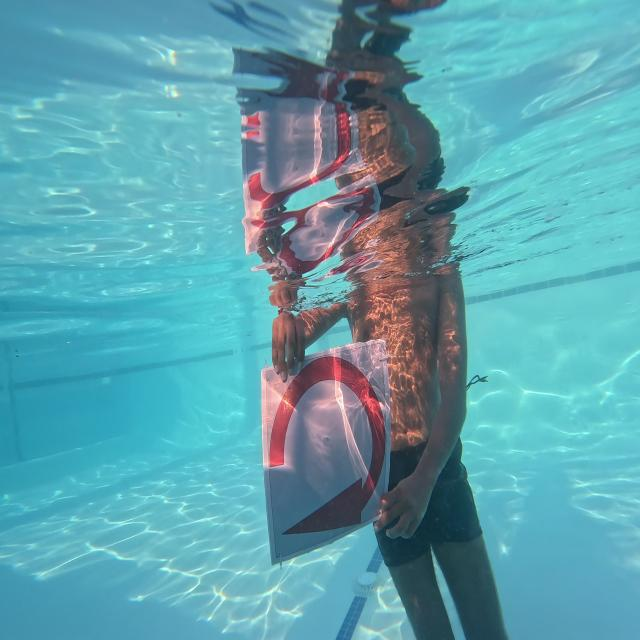red_side: (266, 350, 388, 543)
